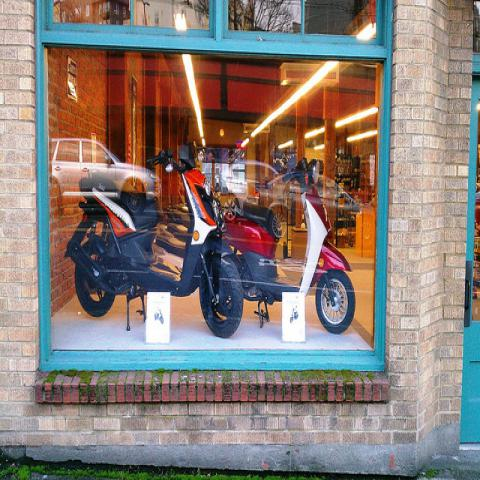car: (49, 137, 160, 217), (242, 169, 362, 238), (217, 161, 279, 222)
motorcycle: (63, 144, 245, 339), (215, 158, 356, 338)
